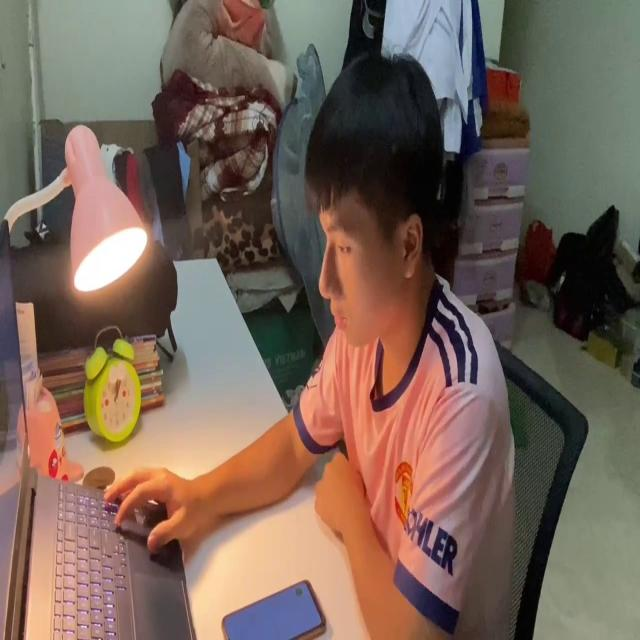laptop: (0, 215, 194, 640)
phone: (215, 570, 328, 640)
student: (106, 53, 514, 640)
